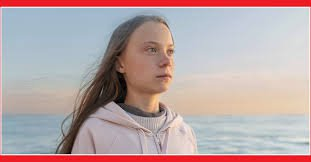noMask: (106, 11, 190, 99)
